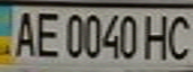0: (60, 10, 84, 60), (118, 11, 142, 61), (81, 10, 103, 60)
4: (103, 11, 124, 60)
A: (9, 7, 39, 58)
C: (163, 11, 193, 61)
E: (30, 8, 63, 59)
H: (139, 11, 175, 61)
